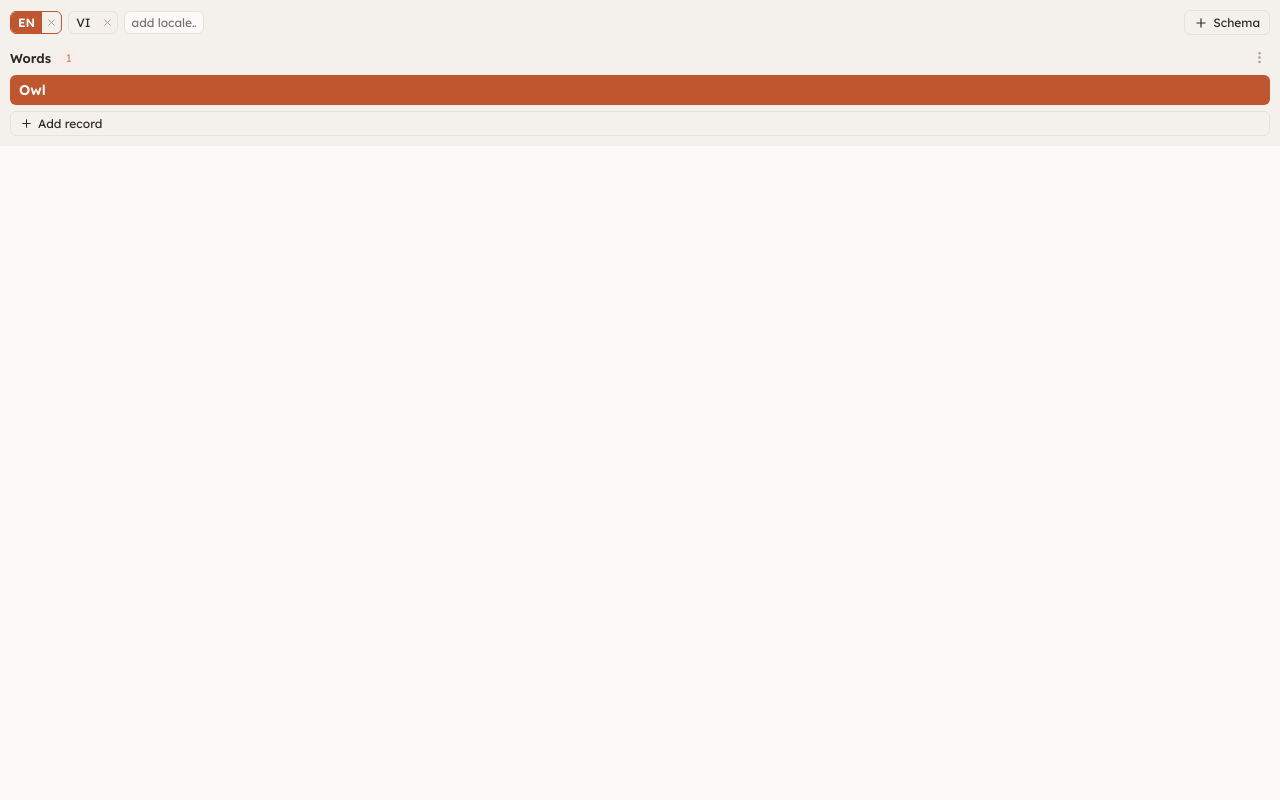
Scenario: SchemaRecordList › opens the Edit records JSON editor from the actions menu
Click the button named "schema actions" at [1260, 58], box [1249, 47, 1270, 68]
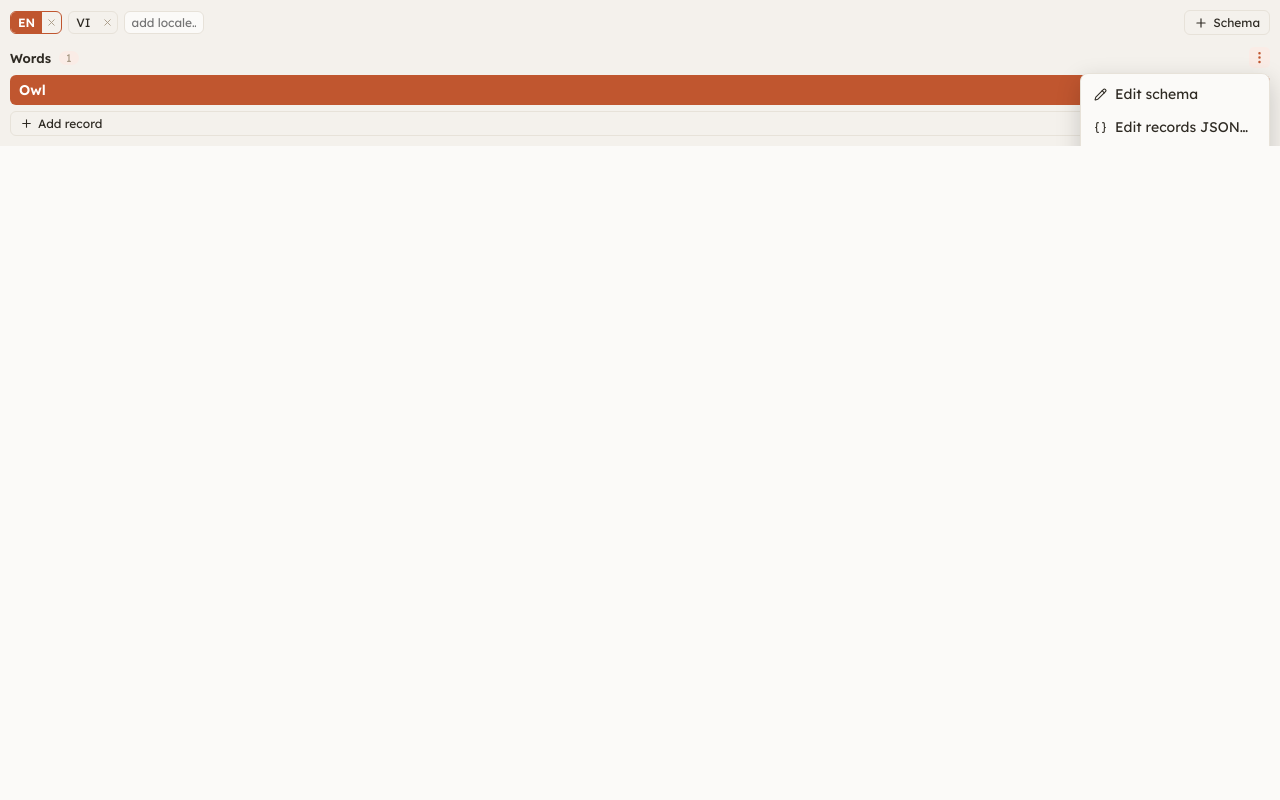
Click the menu item "Edit records JSON…" at [1175, 127], box [1085, 111, 1265, 143]
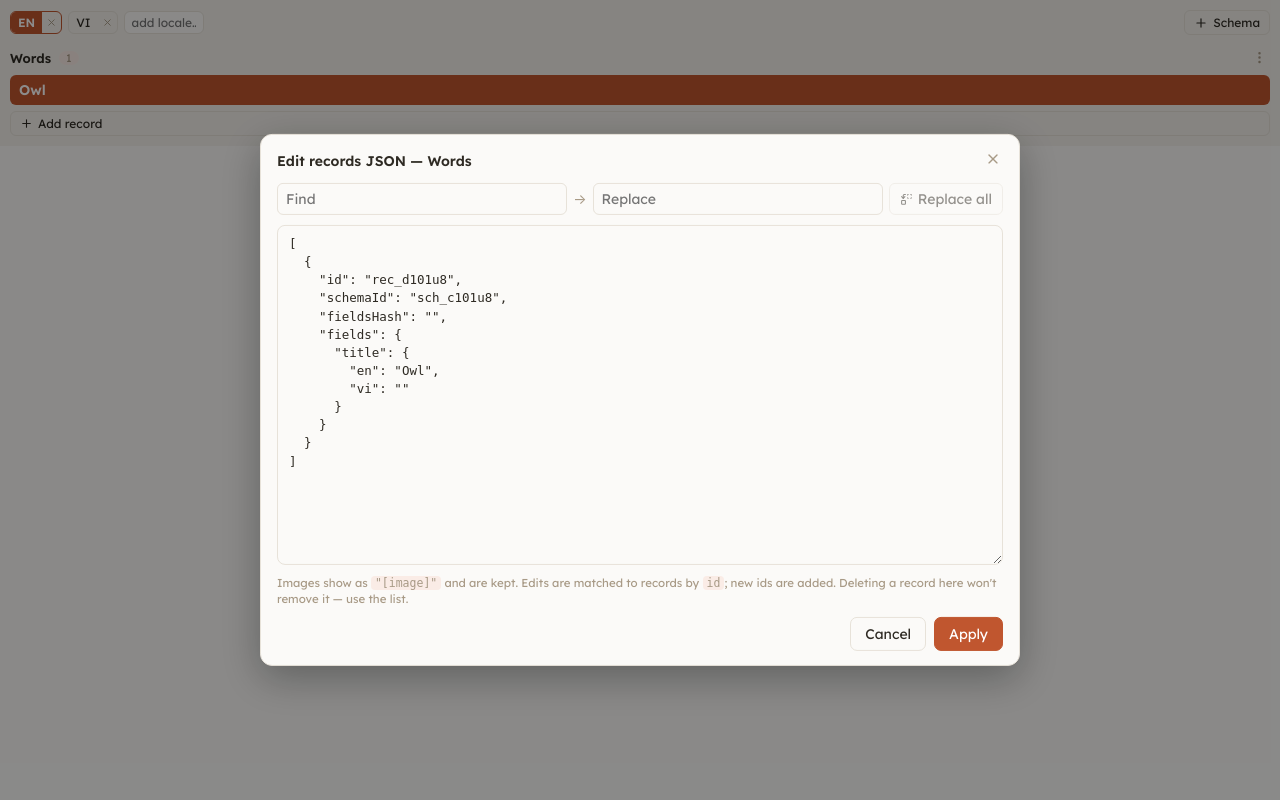
Expected: the dialog "Edit records JSON" is shown, [260, 134, 1020, 666]
